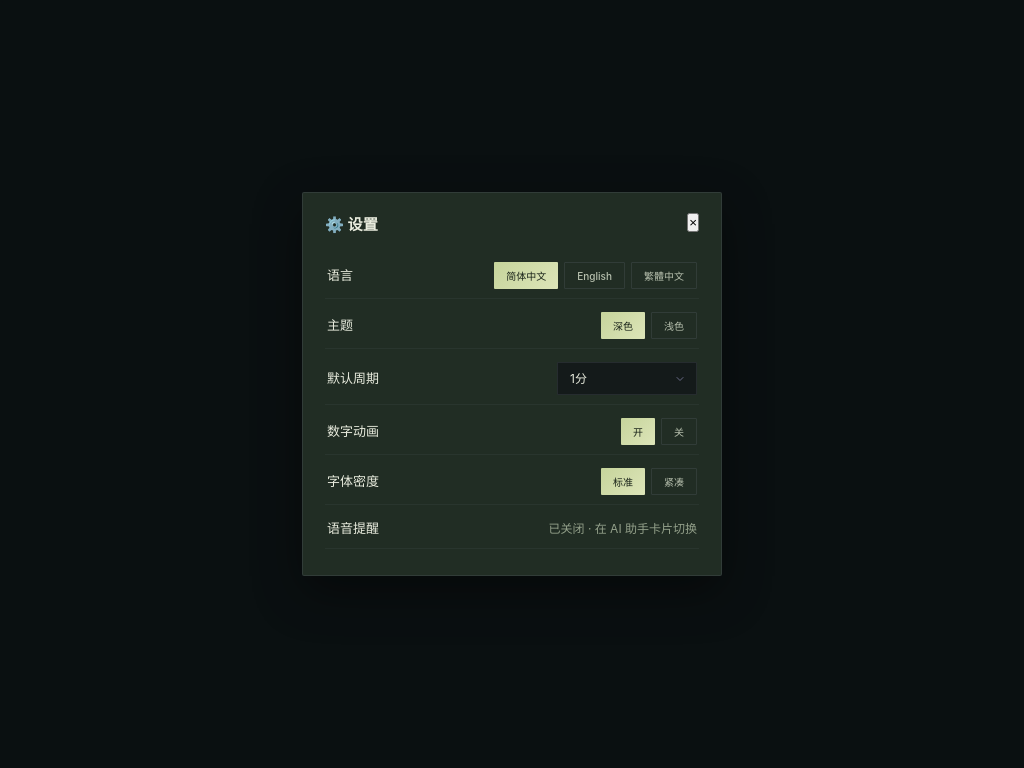
it: SettingsModal 语言切换（i18n V1） › 点 English 就地切英文并持久化；点回简体恢复
Click the button with test id "lang-en" at (595, 276), box x1=564 y1=262 x2=625 y2=289
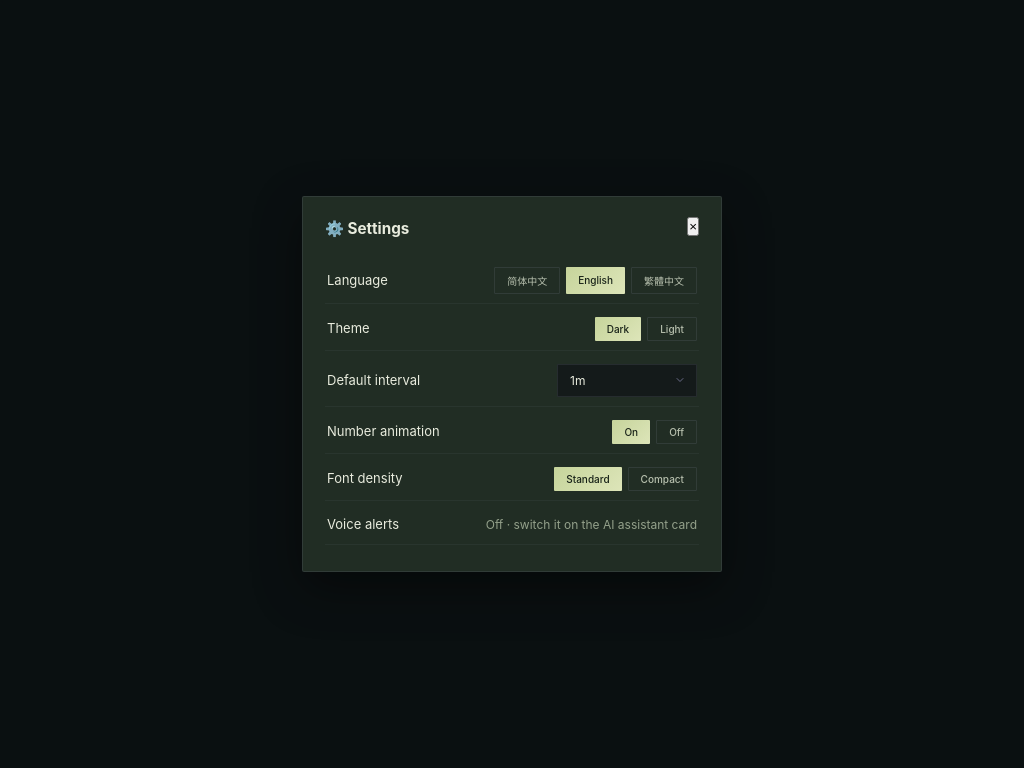
expect the heading "⚙️ Settings" is shown: met, box x1=325 y1=217 x2=409 y2=242
expect the text "Language" is shown: met, box x1=327 y1=270 x2=388 y2=291
expect the heading "⚙️ 设置" is gone: met
Click the button with test id "lang-zh-Hant" at (664, 280), box x1=631 y1=267 x2=697 y2=294
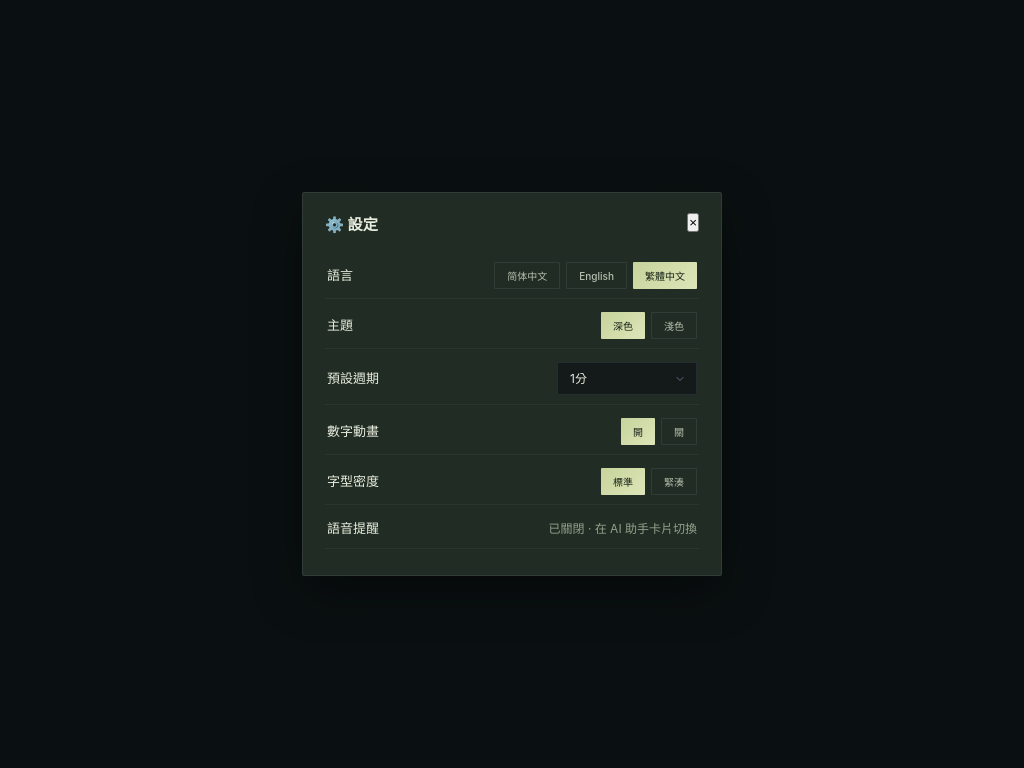
expect the heading "⚙️ 設定" is shown: met, box x1=325 y1=213 x2=378 y2=237
expect the text "語言" is shown: met, box x1=327 y1=265 x2=353 y2=286
